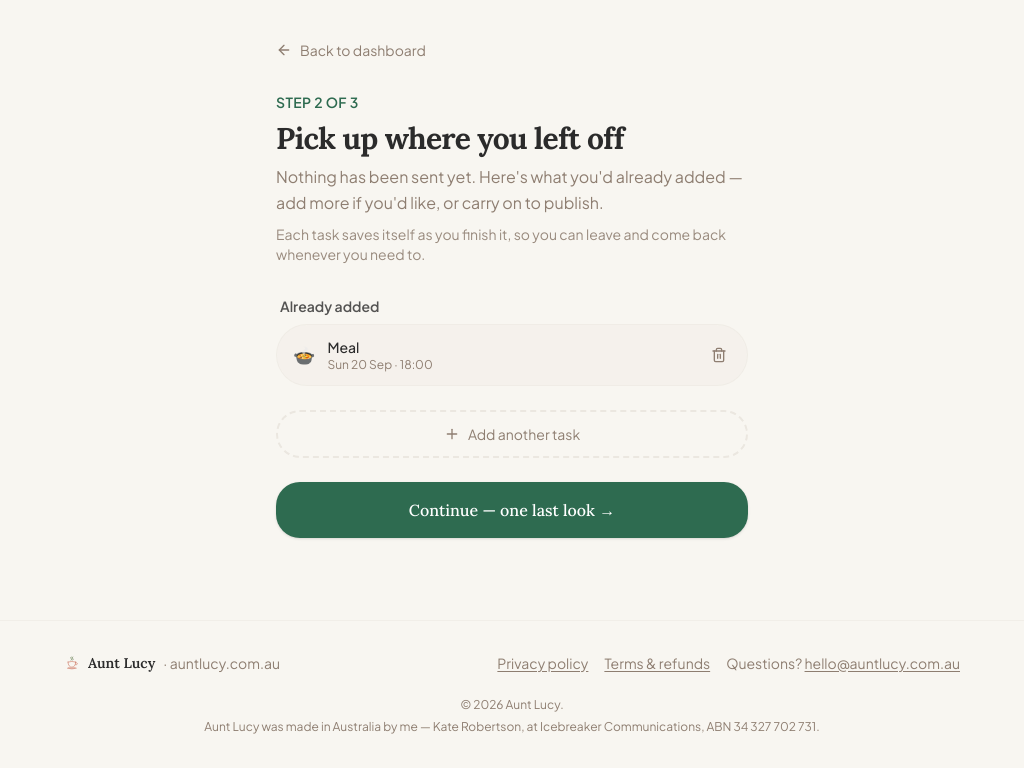
it: arriving at step 3 does not publish › Continue on step 2 lands on step 3 without publishing
Click the button "Continue — one last look →" at (512, 510), box x1=276 y1=482 x2=748 y2=538
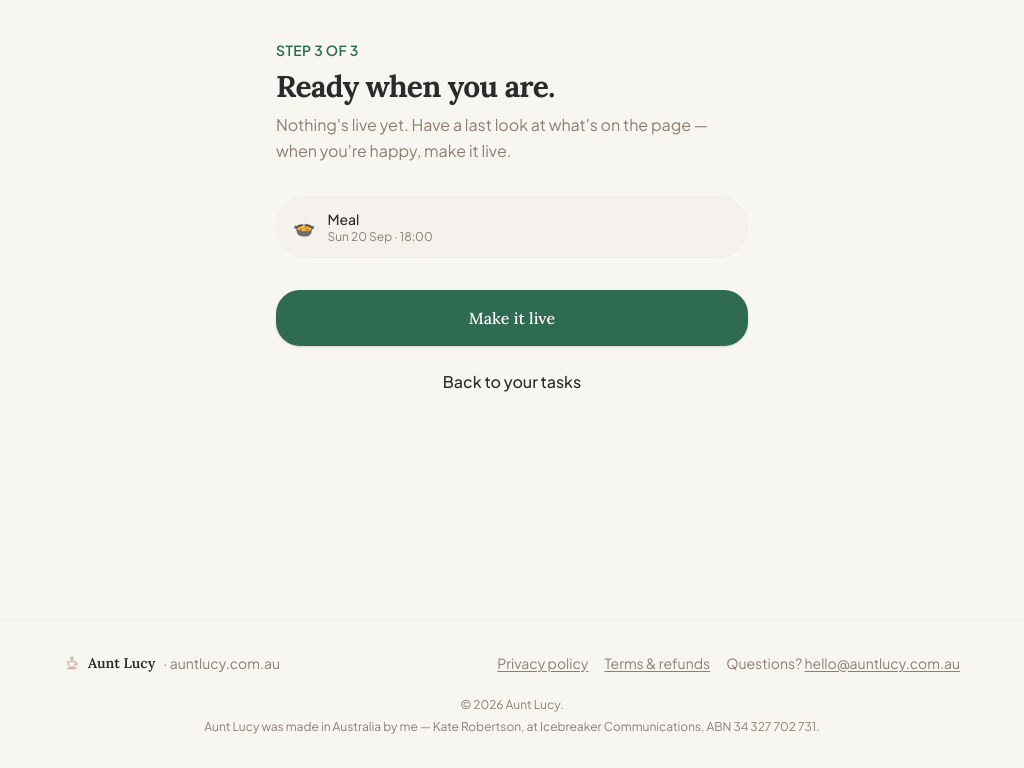
Now the element with test id "publish-step" is shown, box x1=256 y1=0 x2=768 y2=446
